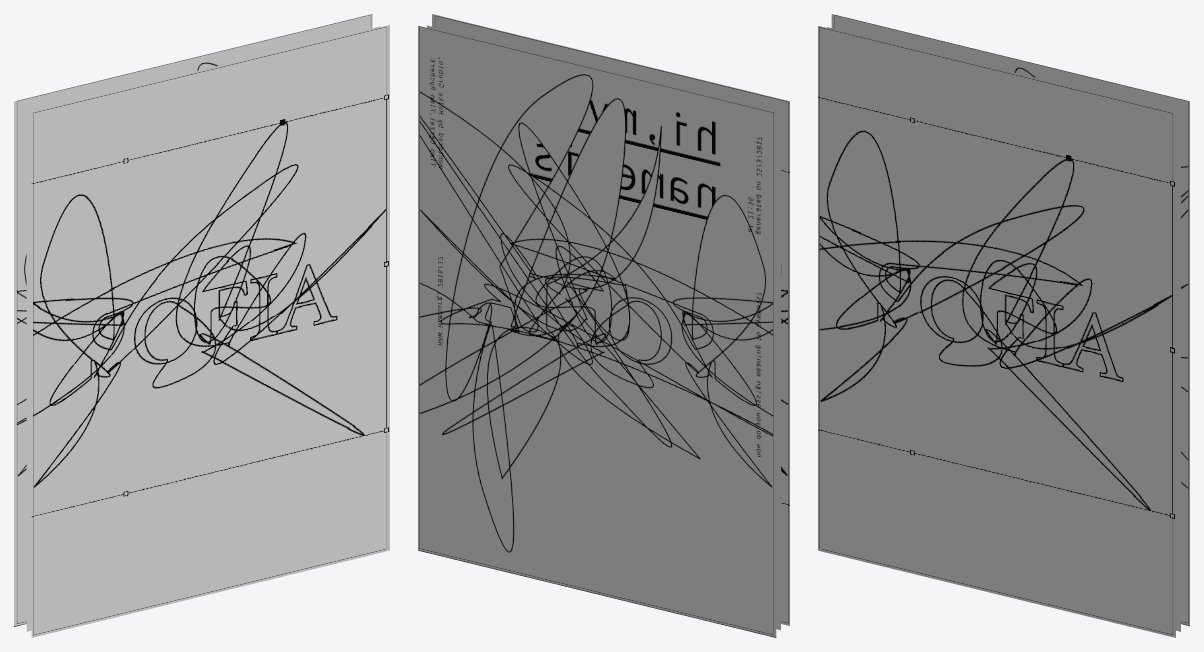
Rendered from arbitrarius.glb.
3 renders of one model, left to right at view 1: azimuth 30°, elevation 25°; view 2: azimuth 150°, elevation 25°; view 3: azimuth 330°, elevation 25°, orthographic.
Parts seen in each view (by area): view 1: 03 sofia name, 01 BG, 02 title copyright; view 2: 01 BG, 03 sofia name, 02 title copyright; view 3: 03 sofia name, 01 BG, 02 title copyright.
Part boxes in pixels (bbox=[...]): 03 sofia name: bbox=[31, 25, 389, 637]; 01 BG: bbox=[14, 14, 372, 626]; 02 title copyright: bbox=[26, 26, 380, 631]; 01 BG: bbox=[418, 26, 776, 637]; 03 sofia name: bbox=[432, 14, 789, 625]; 02 title copyright: bbox=[427, 25, 780, 630]; 03 sofia name: bbox=[818, 26, 1175, 637]; 01 BG: bbox=[831, 14, 1189, 625]; 02 title copyright: bbox=[827, 27, 1180, 631].
Bounding box in the file's own units: 0.7805 × 1.09 × 0.0586.
Materials: 3 (3 with a texture image).
